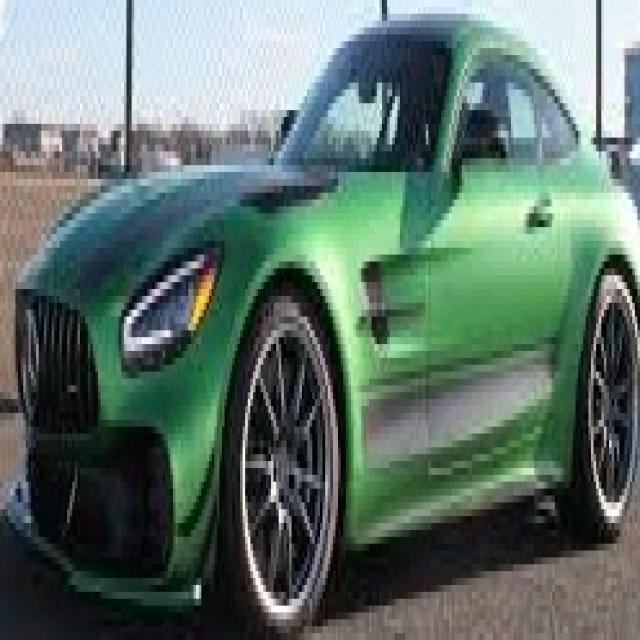green: (0, 12, 640, 633)
